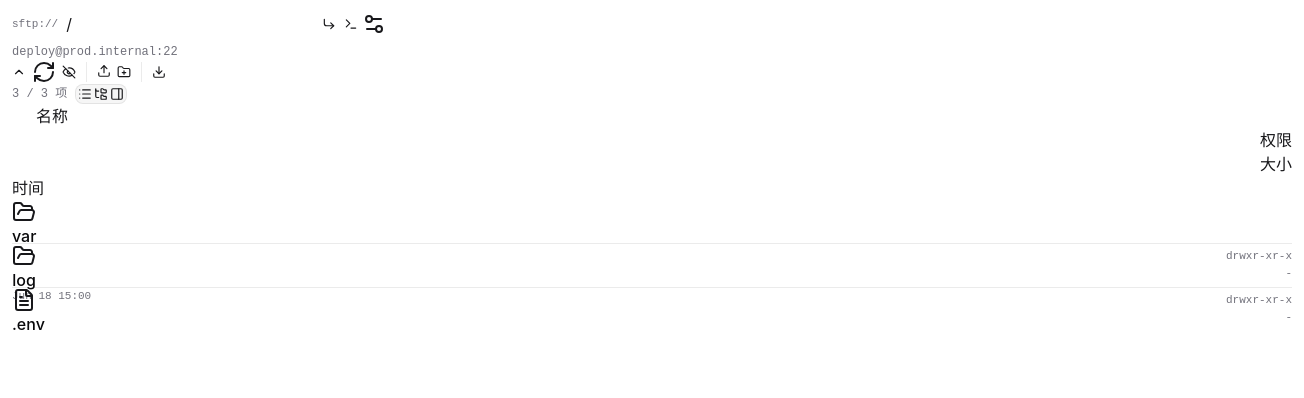
it: SftpToolContent selection behavior › switches selection when right-clicking an unselected entry
The image size is (1304, 398).
Click the button with aria-label "打开目录 var" at (24, 224), box [12,200,36,248]
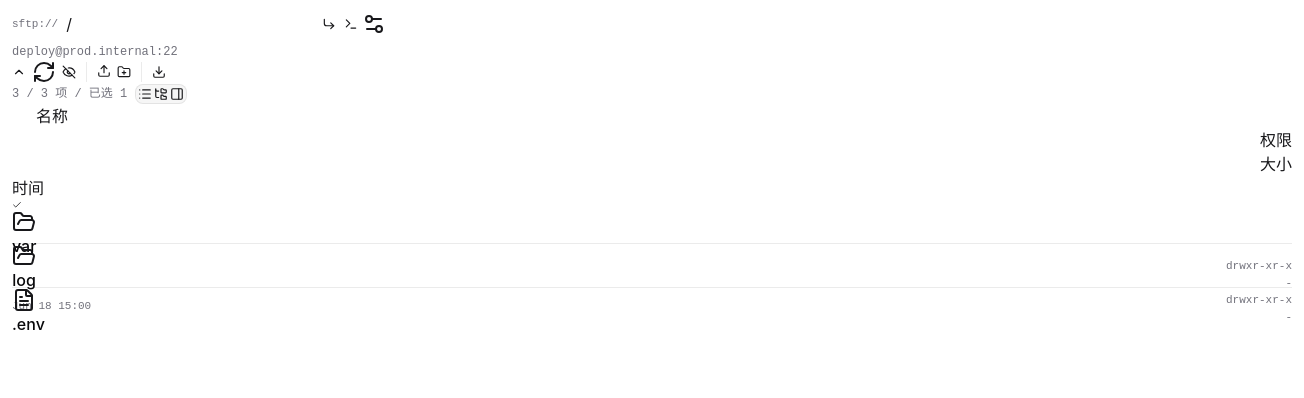
Click the button with aria-label "打开目录 log" at (24, 268), box [12,244,36,292]
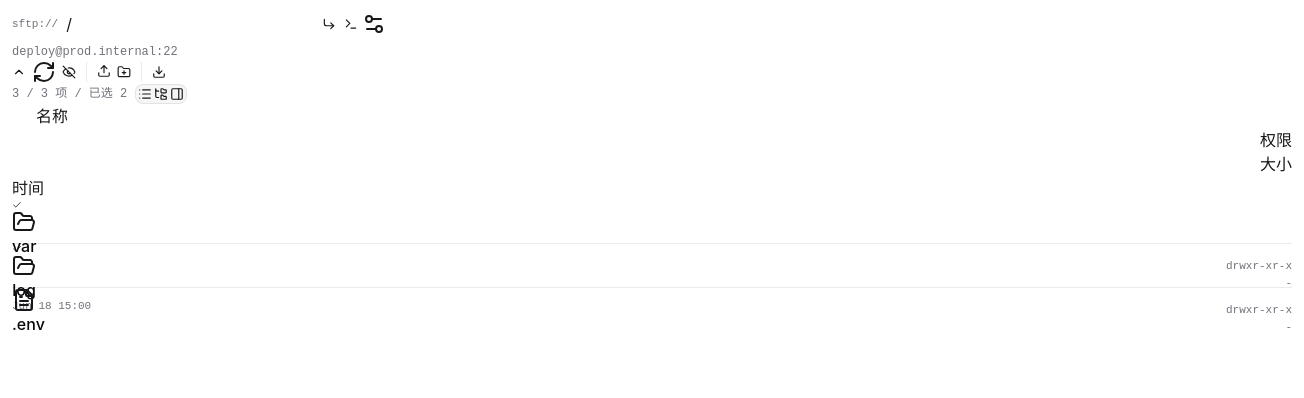
Right-click the button with aria-label "文件 .env" at (28, 312), box [12,288,45,336]
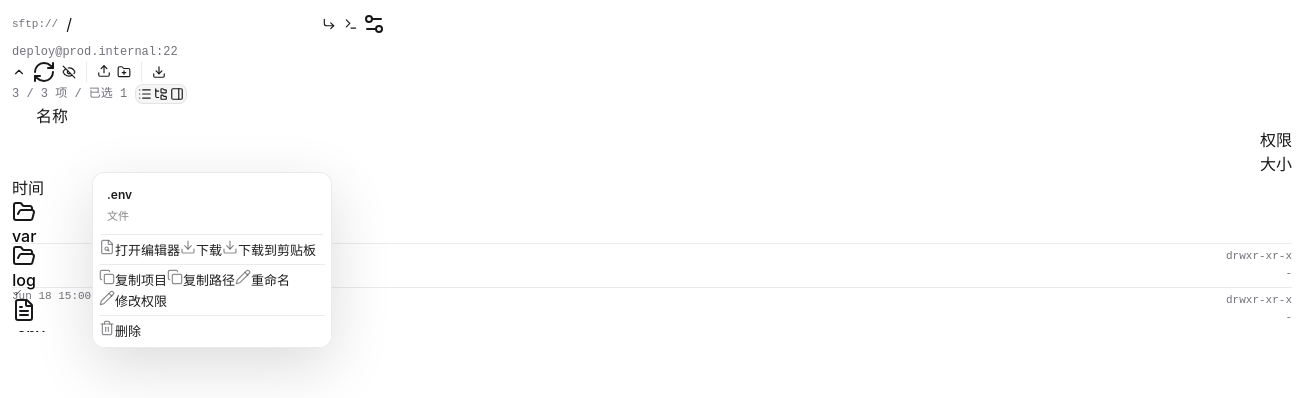
Now the menu named "SFTP .env 右键菜单" is shown, box [92,172,332,348]
Now the text "3 / 3 项 / 已选 1" is shown, box [12,86,127,102]
